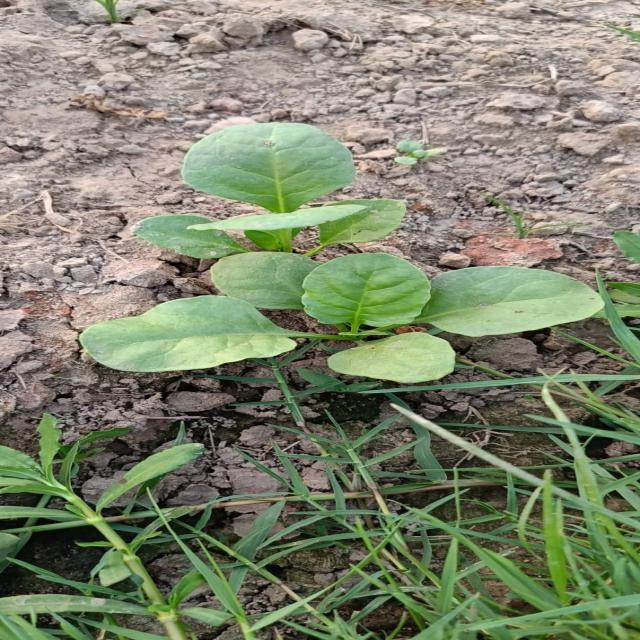plant: (81, 122, 600, 381)
